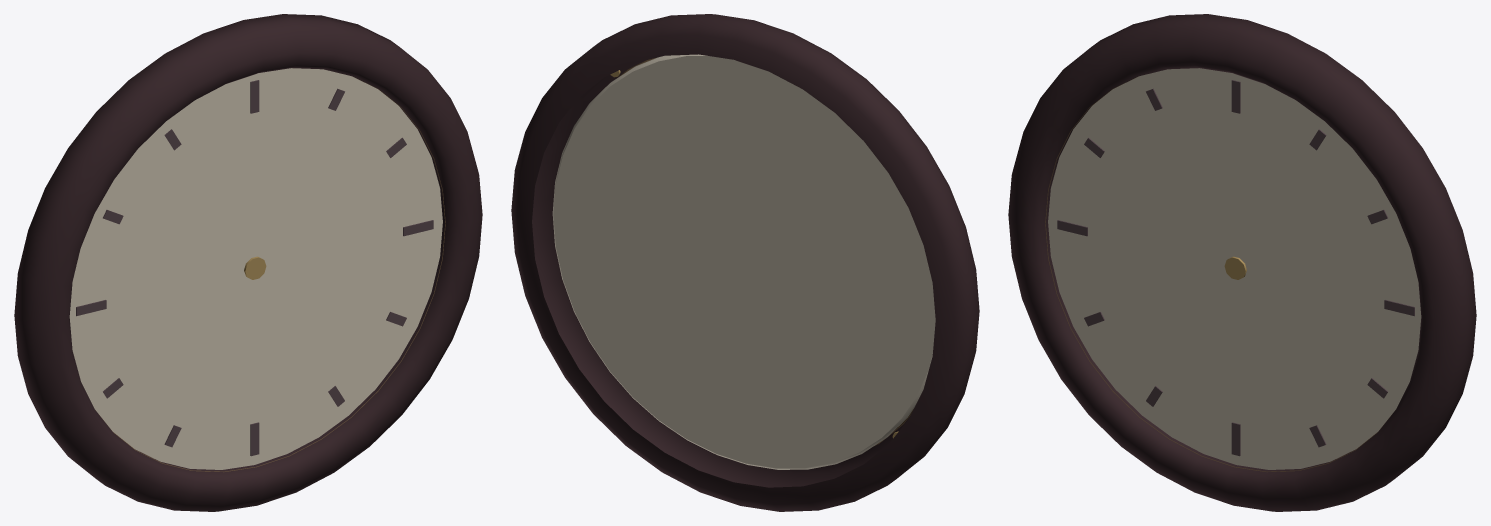
Rendered from wall_clock.glb.
3 renders of one model, left to right at view 1: azimuth 30°, elevation 25°; view 2: azimuth 150°, elevation 25°; view 3: azimuth 330°, elevation 25°, orthographic.
Visible parts, largest first — view 1: wall_clock; view 2: wall_clock; view 3: wall_clock.
Part boxes in pixels (x1=…): wall_clock: x1=14, y1=14, x2=482, y2=511; wall_clock: x1=511, y1=14, x2=979, y2=511; wall_clock: x1=1008, y1=14, x2=1476, y2=511.
Size of the model in its own units: 0.778 by 0.778 by 0.079.
